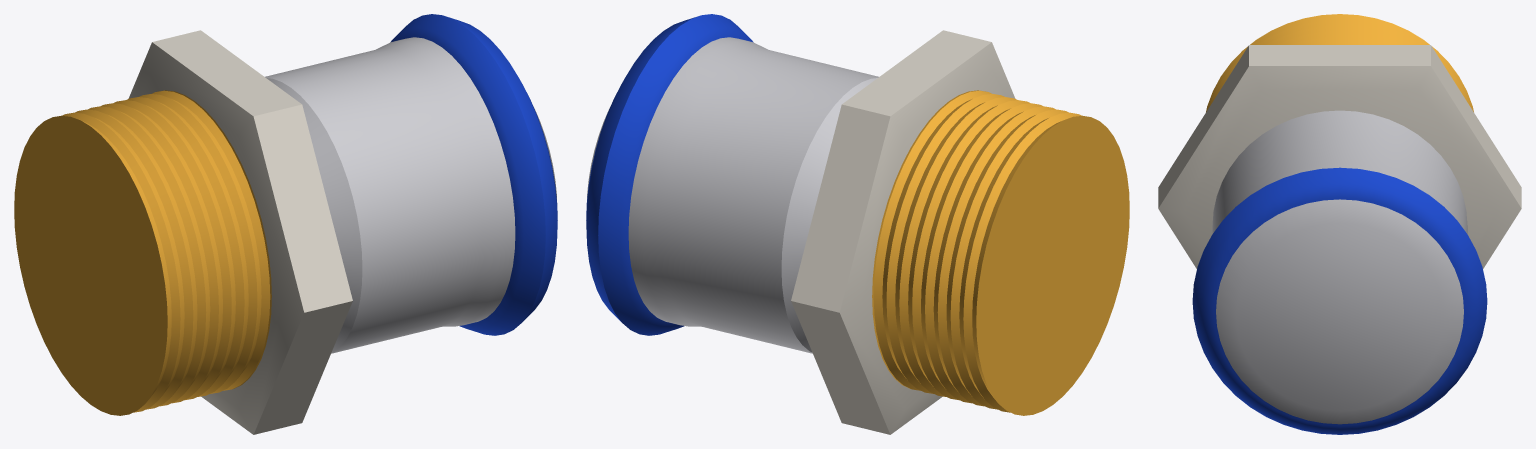
File: fitting_adp_22x1_M.glb
3 renders of one model, left to right at view 1: azimuth 30°, elevation 25°; view 2: azimuth 150°, elevation 25°; view 3: azimuth 270°, elevation 25°, orthographic. The views are drawn at different scales.
Parts seen in each view (by area): view 1: резьба НР, раструб, шестигранник переходника, кольцо пресс; view 2: резьба НР, раструб, шестигранник переходника, кольцо пресс; view 3: раструб, шестигранник переходника, кольцо пресс, резьба НР.
Part boxes in pixels (x1,y1,x2,y2): резьба НР: [14, 90, 271, 415]; раструб: [265, 37, 556, 353]; шестигранник переходника: [128, 30, 352, 434]; кольцо пресс: [390, 14, 557, 335]; резьба НР: [872, 90, 1129, 415]; раструб: [587, 37, 878, 353]; шестигранник переходника: [791, 30, 1015, 434]; кольцо пресс: [586, 14, 753, 335]; раструб: [1212, 110, 1467, 424]; шестигранник переходника: [1158, 45, 1521, 268]; кольцо пресс: [1192, 167, 1487, 434]; резьба НР: [1206, 14, 1473, 111].
Bounding box in the file's own units: 0.051 × 0.038 × 0.0439.
